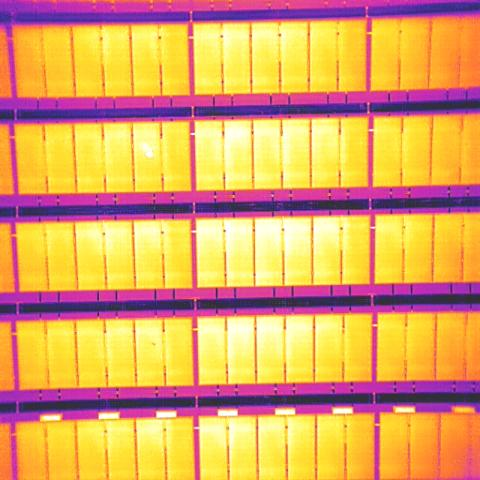fault: (145, 150, 154, 160)
